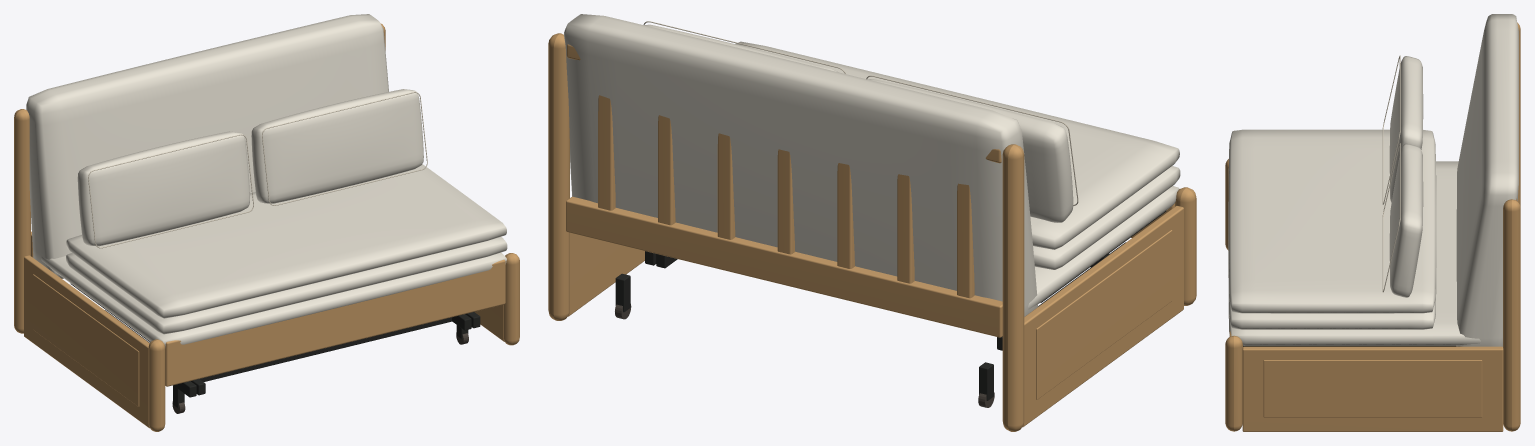
Rendered from sofa-bed-v1.glb.
3 views of the same model, side by side, from view 1: azimuth 30°, elevation 25°; view 2: azimuth 150°, elevation 25°; view 3: azimuth 270°, elevation 25° (orthographic). The views are drawn at different scales.
Visible parts, largest first — view 1: back-cushion, seat-upper, lumbar-right, lumbar-left, front-rail, seat-middle, seat-lower, side-inset-left, side-panel-left, back-post-left, front-post-left, front-post-right (+5 smaller); view 2: back-cushion, back-rail, seat-upper, side-inset-left, side-panel-left, back-post-left, back-post-right, lumbar-left, side-panel-right, seat-lower, seat-middle, back-slat-6 (+8 smaller); view 3: seat-upper, back-cushion, side-inset-right, side-panel-right, seat-lower, lumbar-right, back-post-right, seat-middle, lumbar-left, front-post-right, lumbar-piping-left, lumbar-piping-right (+3 smaller).
Part boxes in pixels (x1,y1,x2,y2): back-cushion: (26,14,388,278); seat-upper: (66,164,506,318); lumbar-right: (251,89,423,203); lumbar-left: (77,131,249,246); front-rail: (165,259,505,386); seat-middle: (66,237,507,334); seat-lower: (41,252,506,348); side-inset-left: (33,274,139,406); side-panel-left: (24,255,149,428); back-post-left: (14,109,30,333); front-post-left: (148,339,165,431); front-post-right: (503,253,519,345); back-cushion: (564,14,1037,316); back-rail: (566,196,1002,337); seat-upper: (735,41,1179,249); side-inset-left: (1036,230,1172,399); side-panel-left: (1022,206,1183,427); back-post-left: (1002,144,1024,431); back-post-right: (548,33,569,320); lumbar-left: (868,79,1073,222); side-panel-right: (568,233,644,316); seat-lower: (1028,186,1179,309); seat-middle: (1033,166,1180,269); back-slat-6: (598,95,615,210); seat-upper: (1228,129,1436,313); back-cushion: (1456,14,1518,346); side-inset-right: (1263,360,1482,417); side-panel-right: (1242,346,1503,431); seat-lower: (1228,161,1480,345); lumbar-right: (1389,143,1423,297); back-post-right: (1503,199,1520,431); seat-middle: (1228,241,1436,329); lumbar-left: (1389,56,1423,202); front-post-right: (1225,335,1242,431); lumbar-piping-left: (1382,55,1400,204); lumbar-piping-right: (1382,143,1400,292).
Bounding box in the file's own units: 1.25 × 0.77 × 0.838.
